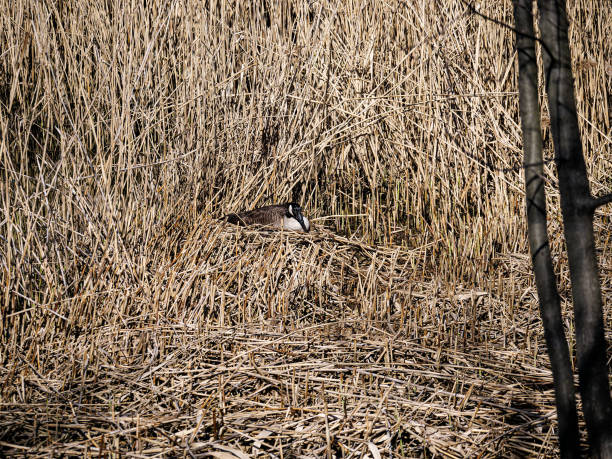goose: (217, 177, 313, 233)
